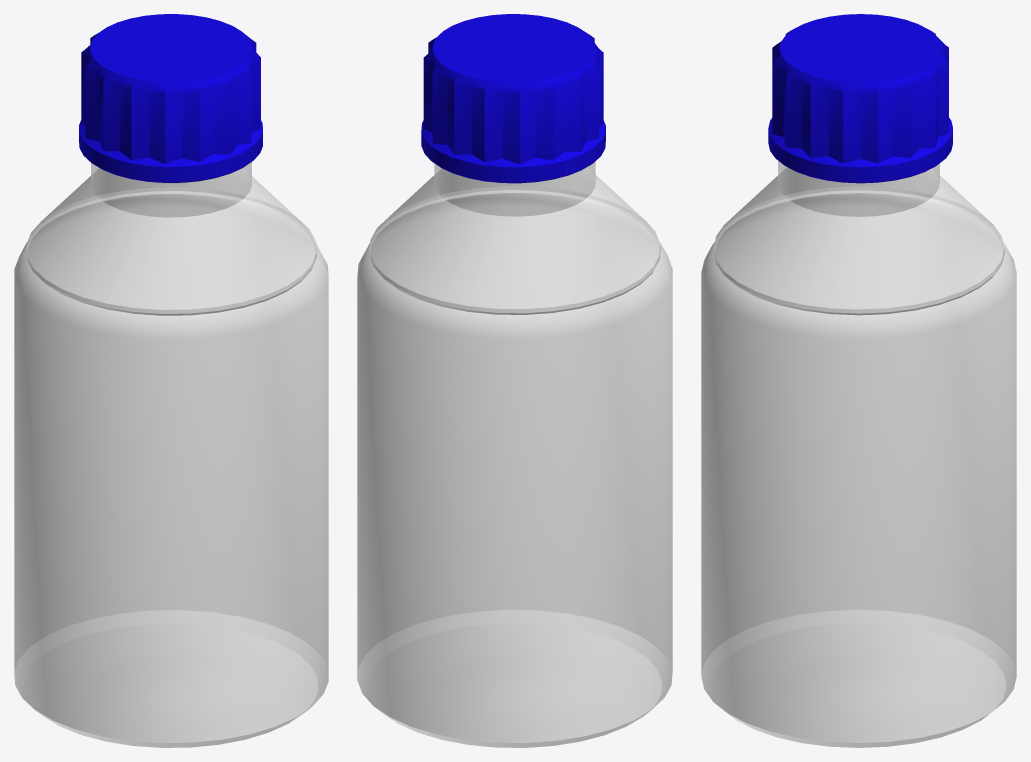
The model's file is Bottle1.fbx.
3 views of the same model, side by side, from view 1: azimuth 30°, elevation 25°; view 2: azimuth 150°, elevation 25°; view 3: azimuth 270°, elevation 25° (orthographic).
Parts seen in each view (by area): view 1: Bottle, Bottle.001, Lid; view 2: Bottle, Bottle.001, Lid; view 3: Bottle, Bottle.001, Lid.
Boxes of the visible parts, left/top/right/bottom form: Bottle: left=14, top=162, right=328, bottom=747; Bottle.001: left=14, top=176, right=328, bottom=747; Lid: left=79, top=14, right=262, bottom=182; Bottle: left=357, top=161, right=672, bottom=747; Bottle.001: left=357, top=175, right=672, bottom=747; Lid: left=421, top=14, right=605, bottom=183; Bottle: left=701, top=161, right=1016, bottom=747; Bottle.001: left=701, top=176, right=1016, bottom=747; Lid: left=768, top=14, right=952, bottom=183.
Bounding box in the file's own units: 814 × 1814 × 814.
